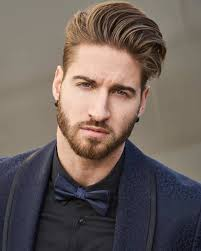b.y: (68, 124, 116, 158)
